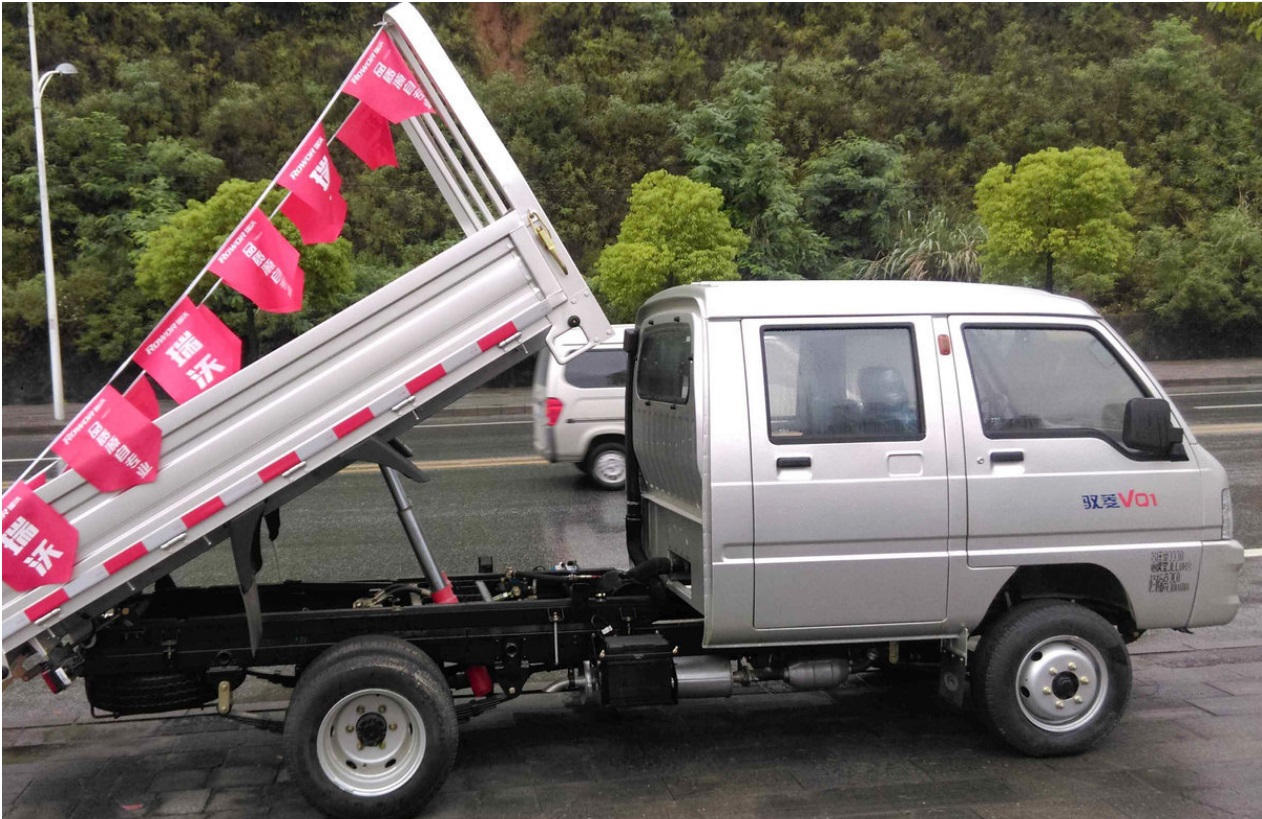truck: (2, 2, 1245, 807)
